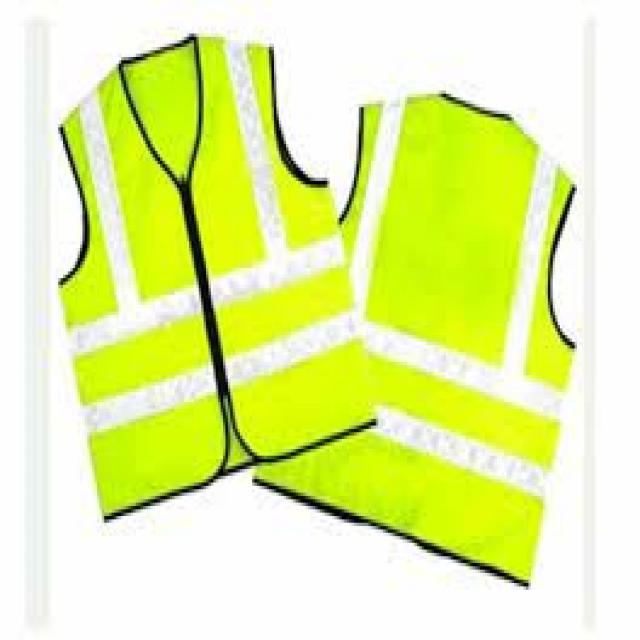Reflective-Jacket: (47, 37, 381, 534)
Safety-Helmet: (245, 83, 580, 600)
